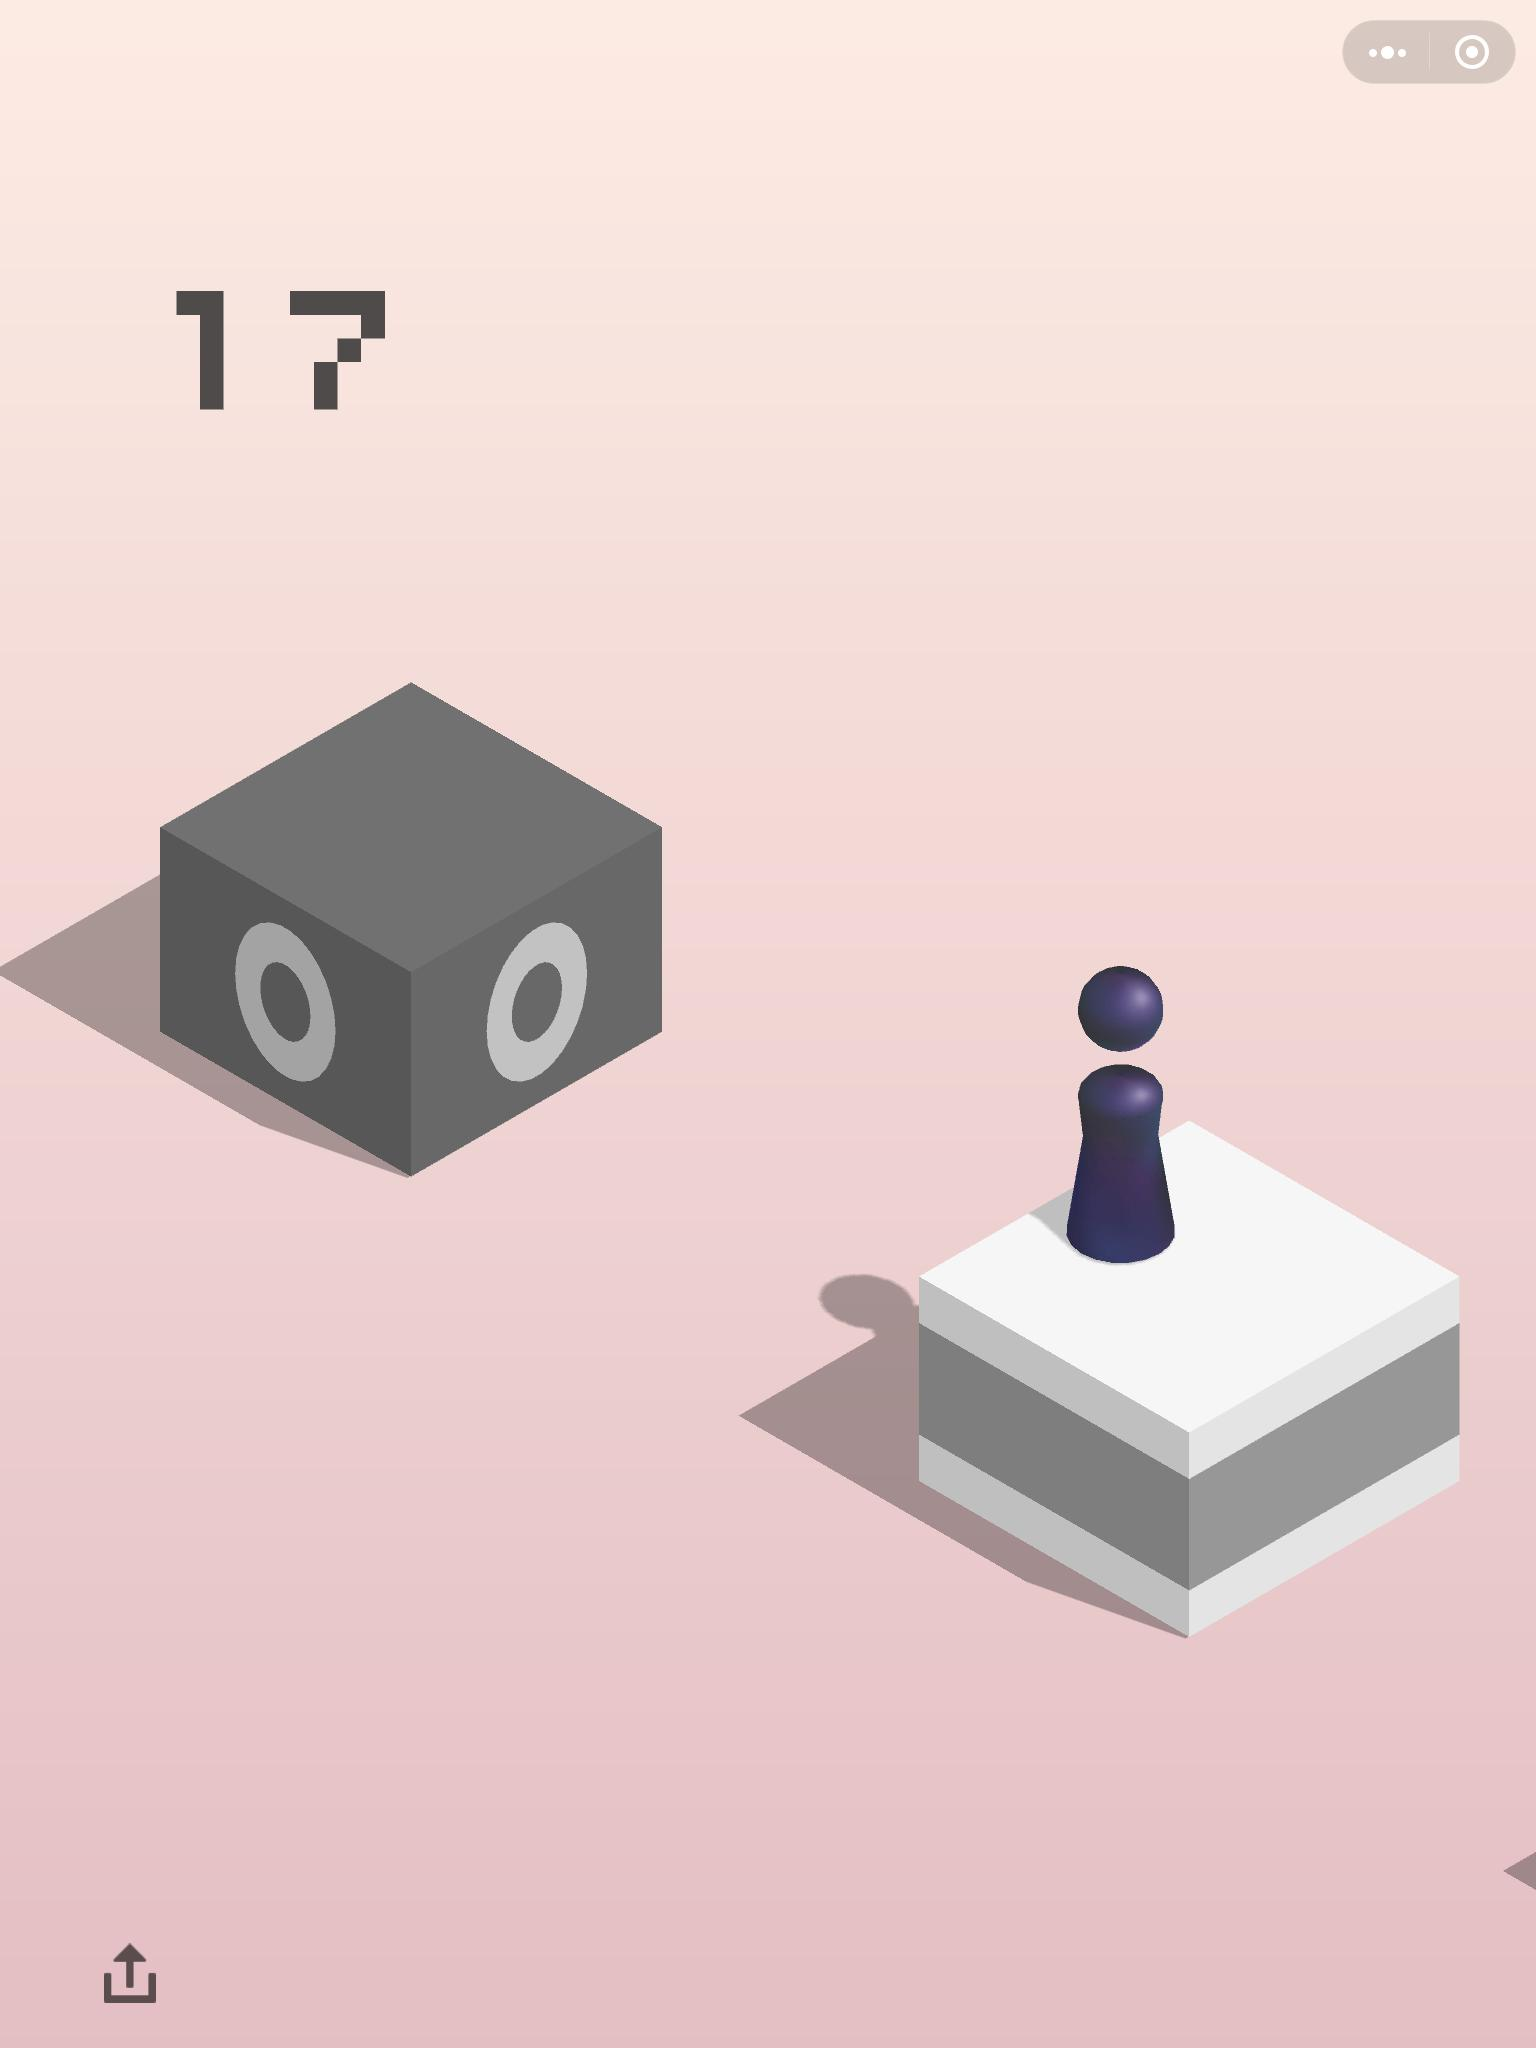f: (899, 1114, 1478, 1651), (148, 671, 673, 1185)
r: (1054, 955, 1187, 1272)
